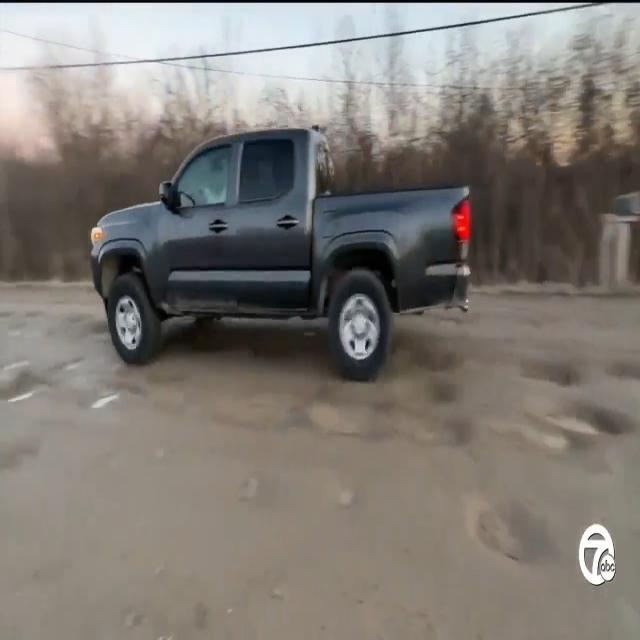Pothole: (309, 392, 475, 470), (469, 486, 559, 572), (548, 394, 631, 439), (243, 376, 304, 424), (0, 355, 46, 409), (517, 358, 576, 388)
